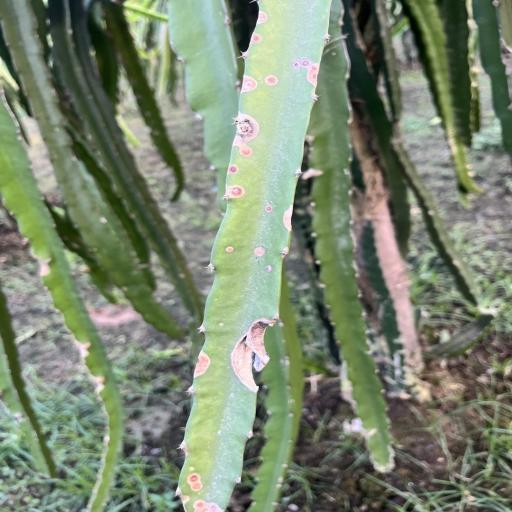stemcanker: (186, 471, 207, 497), (253, 245, 273, 272), (184, 473, 204, 493), (218, 244, 242, 257), (289, 54, 310, 68), (212, 318, 228, 334), (260, 201, 276, 216), (263, 75, 279, 89), (249, 35, 266, 48), (226, 166, 246, 177), (187, 462, 200, 474), (251, 32, 264, 42), (225, 245, 235, 255)
